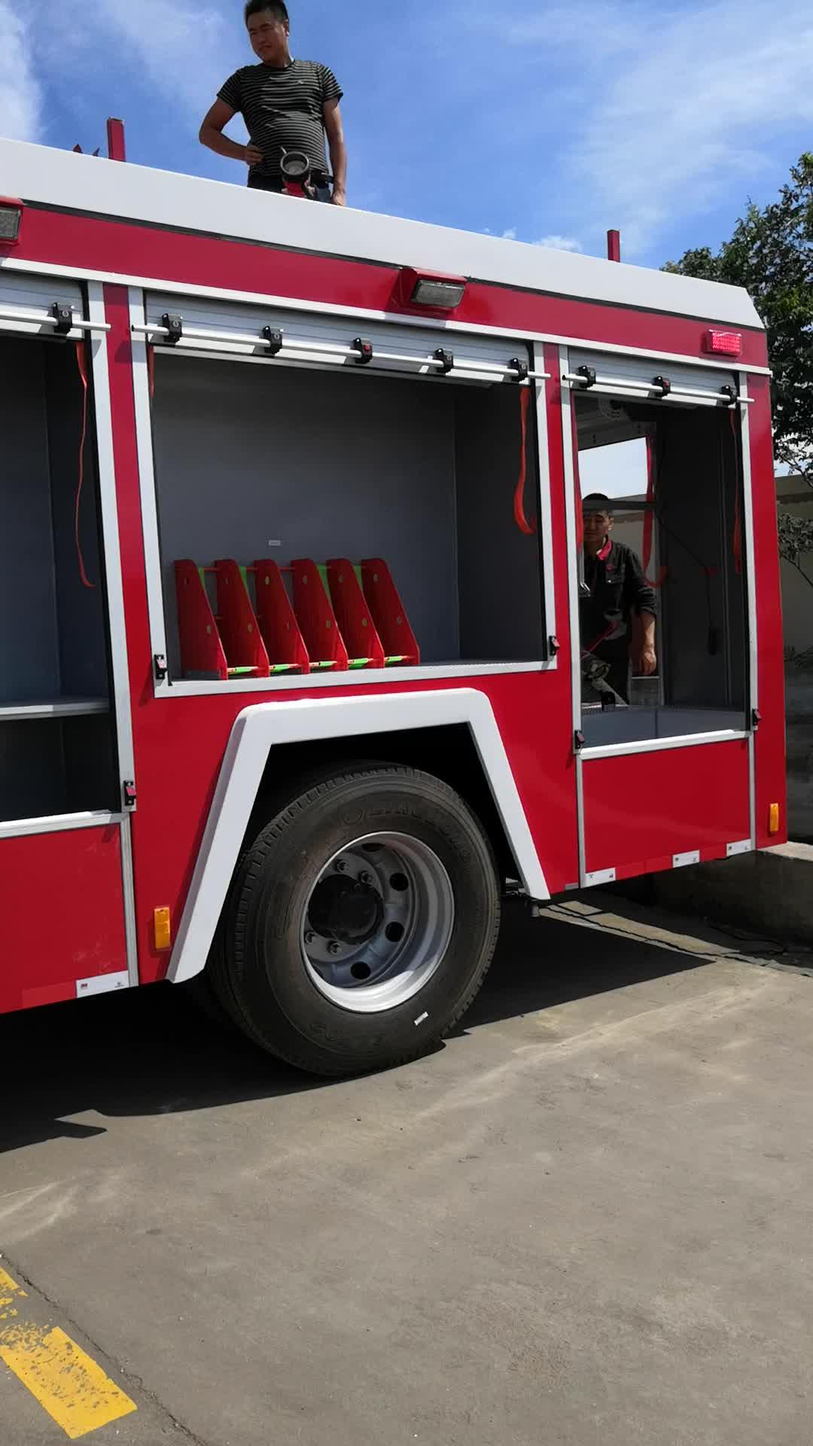Fire-engine: (1, 117, 790, 1078)
